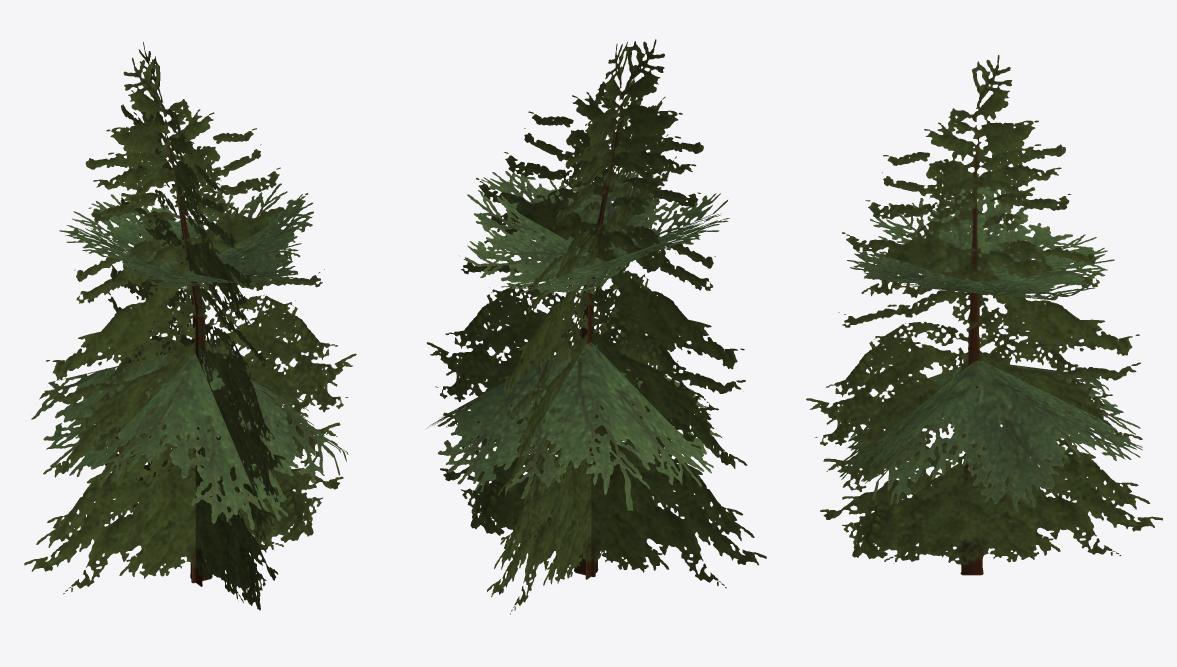
The model's file is jedle_k0.glb.
3 views of the same model, side by side, from view 1: azimuth 30°, elevation 25°; view 2: azimuth 150°, elevation 25°; view 3: azimuth 270°, elevation 25° (orthographic). The views are drawn at different scales.
Parts seen in each view (by area): view 1: Background_Tree_Atlas.009_Background_Tree_Atlas_0; view 2: Background_Tree_Atlas.009_Background_Tree_Atlas_0; view 3: Background_Tree_Atlas.009_Background_Tree_Atlas_0.
Boxes of the visible parts, x1=… form: Background_Tree_Atlas.009_Background_Tree_Atlas_0: x1=24, y1=42, x2=356, y2=610; Background_Tree_Atlas.009_Background_Tree_Atlas_0: x1=426, y1=39, x2=766, y2=614; Background_Tree_Atlas.009_Background_Tree_Atlas_0: x1=806, y1=55, x2=1162, y2=575.
Bounding box in the file's own units: 2.42 × 3.69 × 2.42.
Materials: 1 (1 with a texture image).
